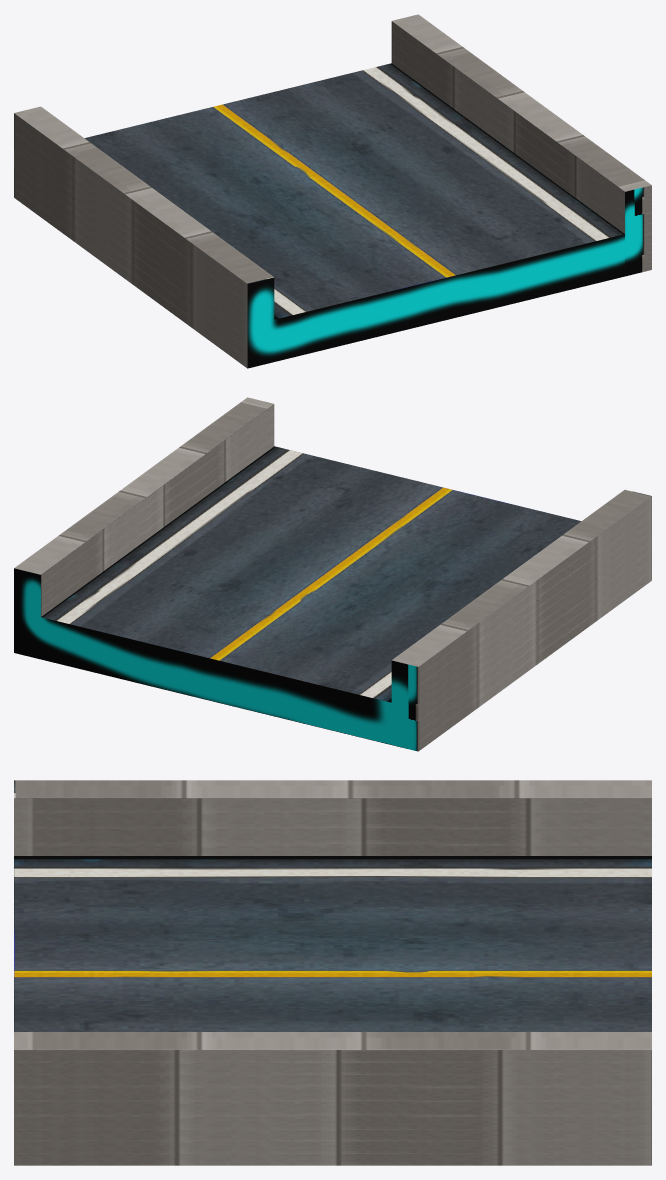
Rendered from straight_road.obj.
3 views of the same model, one above another, from view 1: azimuth 30°, elevation 25°; view 2: azimuth 150°, elevation 25°; view 3: azimuth 270°, elevation 25° (orthographic). The views are drawn at different scales.
Parts seen in each view (by area): view 1: Cube; view 2: Cube; view 3: Cube.
Part boxes in pixels (x1=…): Cube: x1=14, y1=14, x2=651, y2=368; Cube: x1=14, y1=397, x2=651, y2=751; Cube: x1=14, y1=780, x2=651, y2=1165.
Size of the model in its own units: 2 by 0.4 by 2.
Materials: 1 (1 with a texture image).
